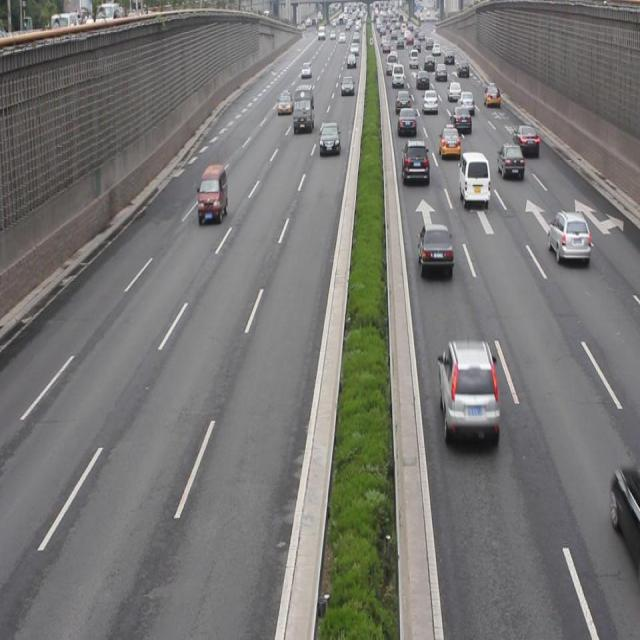car: (438, 340, 498, 450), (547, 209, 588, 266), (416, 223, 451, 276), (401, 141, 428, 180), (511, 124, 538, 157), (497, 142, 522, 176), (438, 124, 458, 158), (318, 124, 338, 153), (396, 107, 414, 136), (450, 107, 470, 130)
truck: (196, 163, 226, 221), (458, 154, 488, 209), (294, 87, 314, 130)
